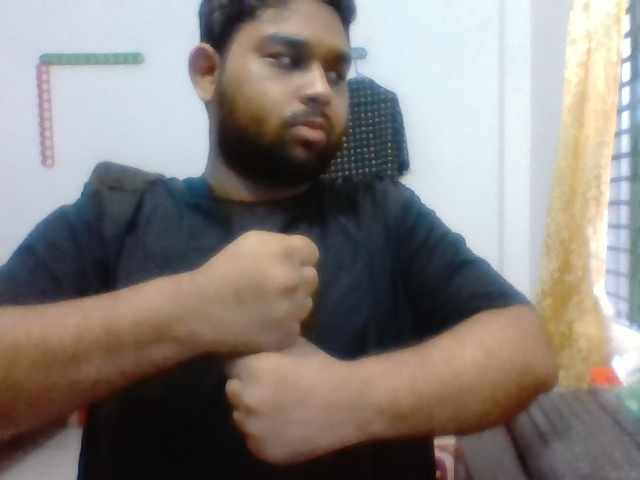G: (205, 215, 356, 472)
